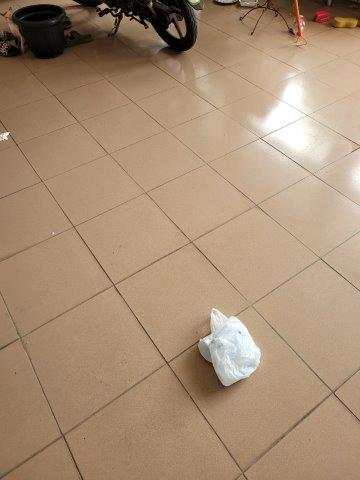plastik: (196, 308, 261, 386)
